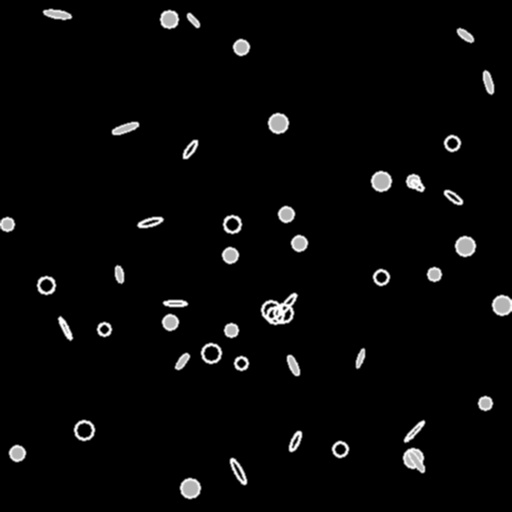pseudomonas: (276, 291, 298, 317), (228, 457, 248, 485), (403, 420, 425, 442), (406, 449, 426, 473), (112, 120, 138, 136), (57, 316, 73, 340), (443, 188, 463, 206), (481, 70, 495, 94), (182, 139, 198, 159), (456, 27, 474, 43), (138, 216, 162, 228), (174, 352, 190, 370), (286, 355, 300, 375), (288, 431, 302, 451), (44, 9, 70, 19), (185, 12, 201, 28), (409, 178, 425, 192), (355, 348, 365, 368), (114, 265, 124, 283), (164, 300, 186, 306)
synechocystis: (274, 304, 292, 322), (262, 301, 280, 319), (202, 344, 220, 362), (269, 114, 287, 132), (372, 172, 390, 190), (181, 479, 199, 497), (404, 449, 422, 467), (456, 237, 474, 255), (75, 421, 93, 439), (493, 296, 511, 314), (161, 11, 177, 27), (38, 277, 54, 293), (267, 307, 283, 323), (224, 216, 240, 232), (163, 315, 177, 329), (10, 446, 24, 460), (374, 270, 388, 284), (333, 442, 347, 456), (292, 236, 306, 250), (445, 136, 459, 150), (234, 40, 248, 54), (279, 207, 293, 221), (223, 248, 237, 262), (407, 175, 419, 187), (98, 323, 110, 335), (428, 268, 440, 280), (479, 397, 491, 409), (235, 357, 247, 369), (225, 324, 237, 336), (1, 218, 13, 230)
